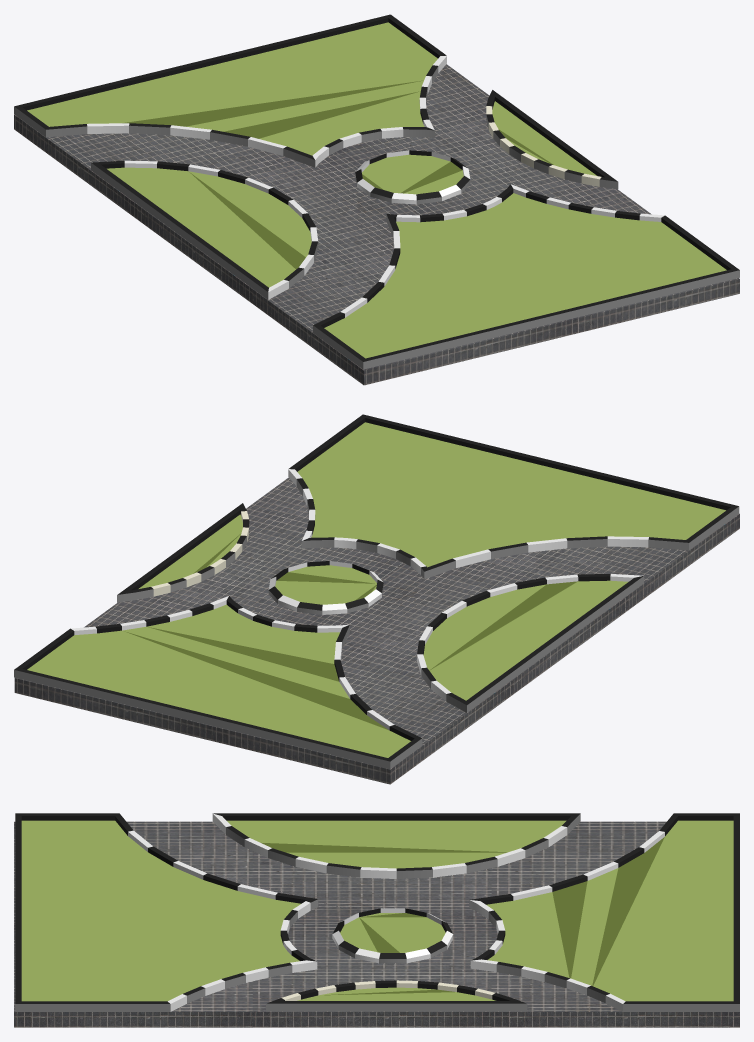
Rendered from ground_1.FBX.
The picture shows the model from 3 angles, top to bottom: view 1: azimuth 30°, elevation 25°; view 2: azimuth 150°, elevation 25°; view 3: azimuth 270°, elevation 25°; orthographic projection. The views are drawn at different scales.
Visible parts, largest first — view 1: Circle002, Box001; view 2: Circle002, Box001; view 3: Circle002, Box001.
Part boxes in pixels (bbox=[...]): Circle002: bbox=[14, 14, 739, 369]; Box001: bbox=[14, 64, 739, 385]; Circle002: bbox=[14, 414, 739, 769]; Box001: bbox=[14, 477, 739, 784]; Circle002: bbox=[15, 813, 739, 1011]; Box001: bbox=[14, 821, 739, 1027].
Bounding box in the file's own units: 189 × 11.01 × 304.
Materials: 7 (2 with a texture image).
